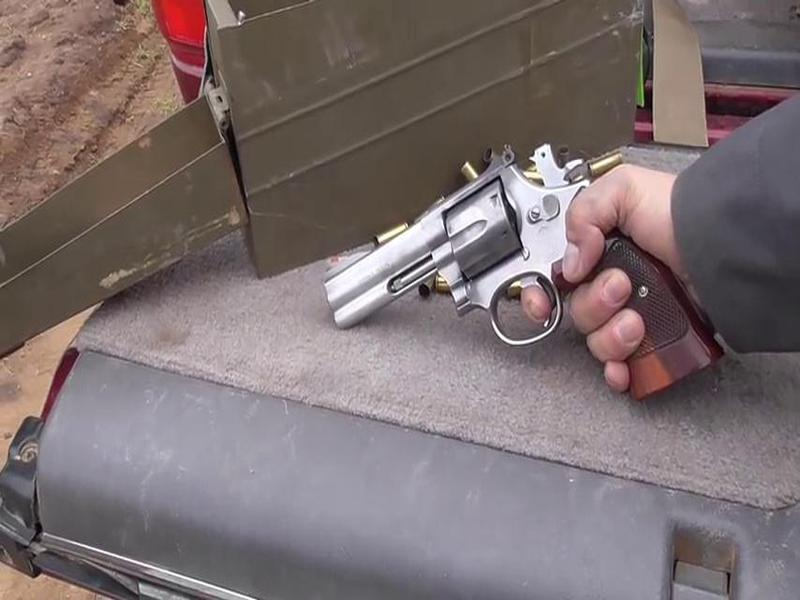Revolver: (319, 153, 648, 393)
